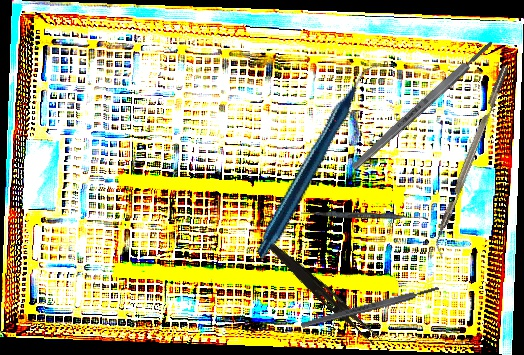Chopper: (426, 65, 519, 259)
Dressing Forceps: (260, 238, 384, 346)
Handpiece: (207, 64, 430, 260)
Scalpel Handle: (349, 38, 496, 173), (300, 284, 440, 330)
Spatula Surgical: (300, 210, 429, 221)
